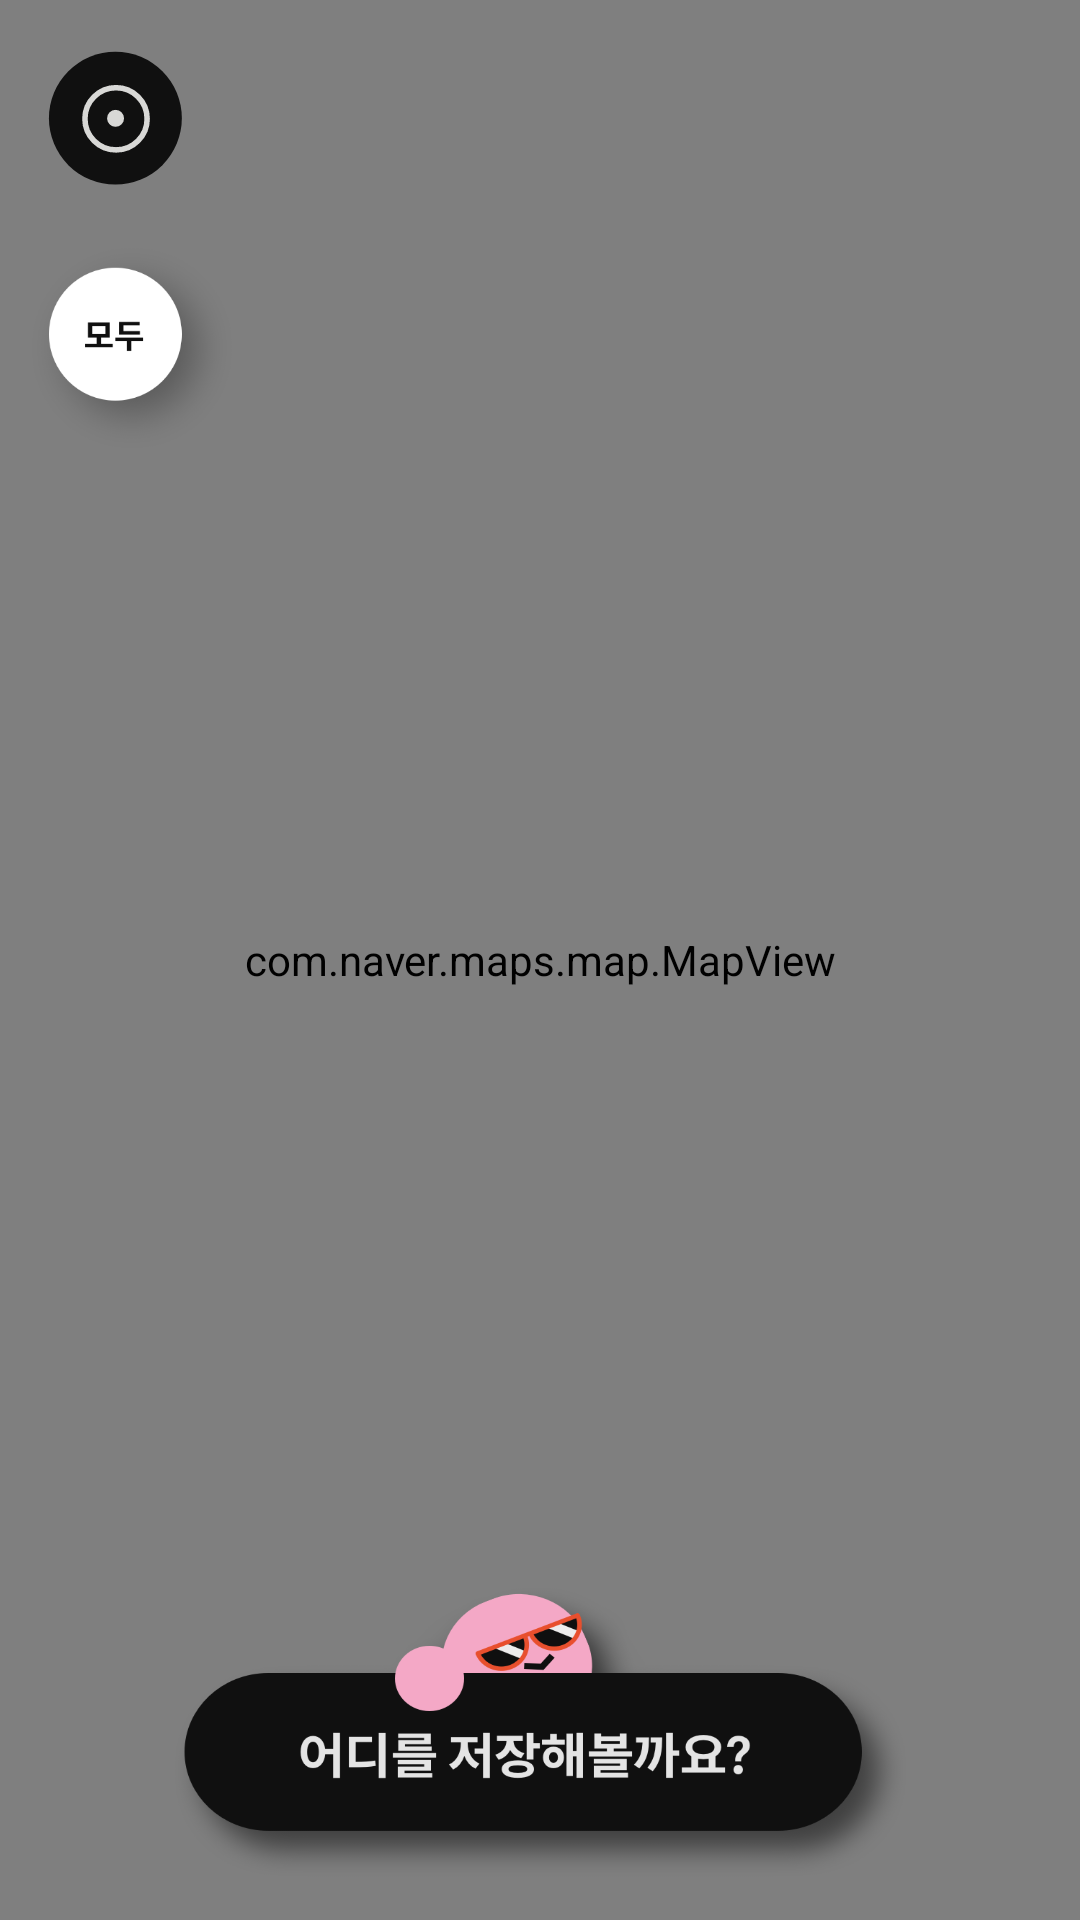

Screen size 1080px x 1920px. Icon name, then its center in pixels as (x=x, y=y):
curr position: (x=115, y=118)
